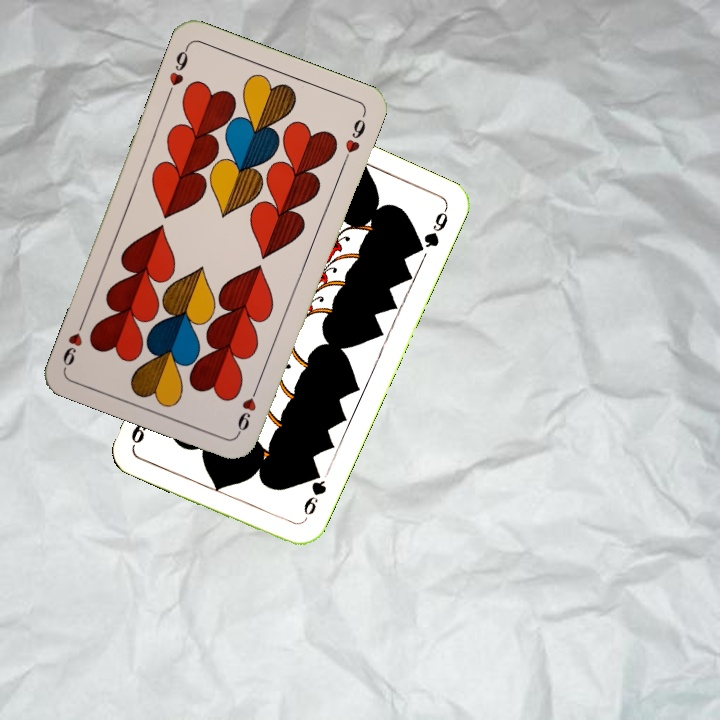G9: (298, 466, 329, 525)
H9: (163, 42, 192, 99), (233, 379, 262, 436)
